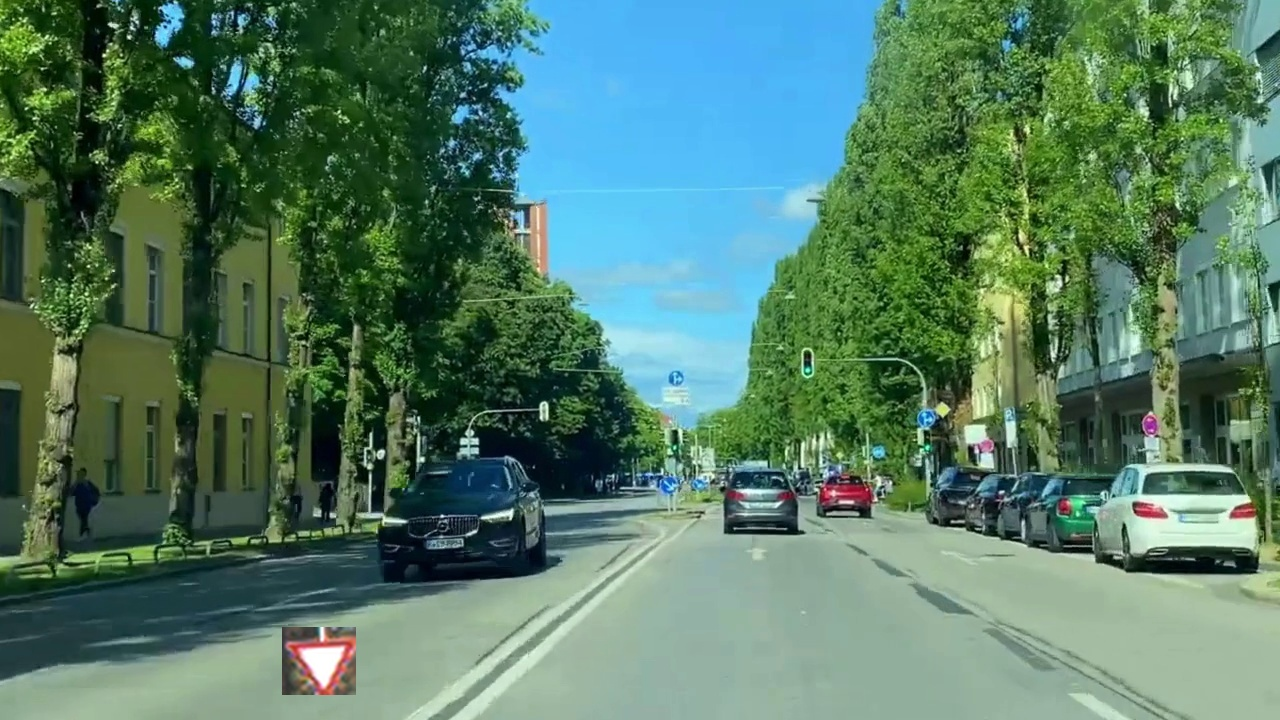Yield: (282, 627, 356, 695)
